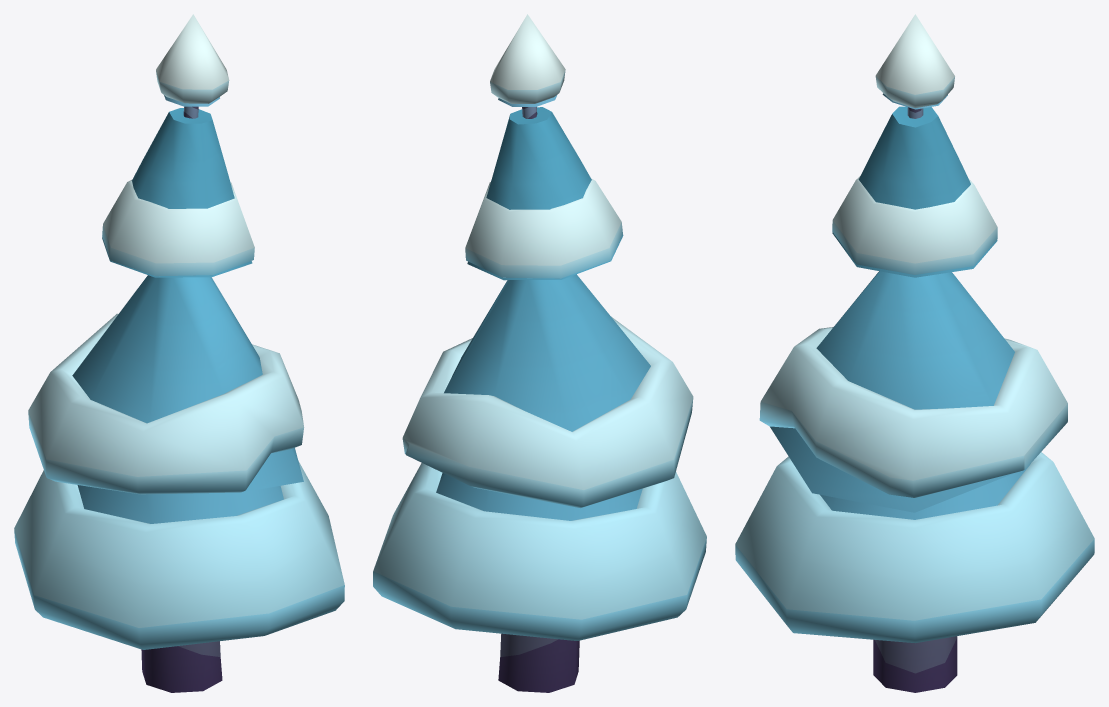
The model's file is Tree_02.fbx.
The picture shows the model from 3 angles, left to right: view 1: azimuth 30°, elevation 25°; view 2: azimuth 150°, elevation 25°; view 3: azimuth 270°, elevation 25°; orthographic projection.
Visible parts, largest first — view 1: Cylinder.007; view 2: Cylinder.007; view 3: Cylinder.007.
Part boxes in pixels (left/top/right/bottom): Cylinder.007: left=14, top=14, right=344, bottom=692; Cylinder.007: left=373, top=14, right=706, bottom=692; Cylinder.007: left=735, top=14, right=1094, bottom=692.
Bounding box in the file's own units: 271 × 579 × 283.
